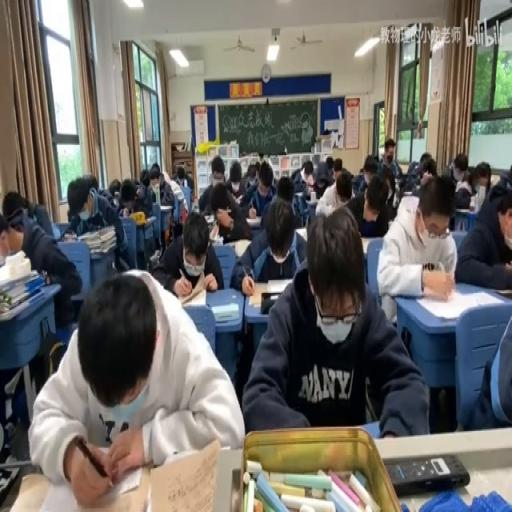calculator: (414, 286, 500, 321), (297, 220, 368, 250), (246, 279, 290, 307), (0, 248, 30, 281), (212, 300, 238, 322), (178, 287, 206, 307), (4, 365, 22, 394), (234, 236, 252, 256), (360, 236, 374, 256), (294, 224, 308, 242), (148, 246, 160, 263), (209, 222, 219, 240), (245, 215, 261, 226), (61, 232, 78, 242), (454, 205, 474, 212), (233, 193, 244, 205), (159, 203, 173, 212), (204, 213, 214, 225), (294, 191, 308, 199), (144, 216, 156, 225), (402, 191, 412, 196)
paper: (28, 266, 242, 506), (244, 204, 426, 436), (456, 166, 510, 428), (0, 192, 82, 331), (152, 208, 226, 297), (64, 174, 127, 278), (345, 169, 392, 238), (451, 157, 476, 209), (149, 164, 175, 210), (397, 156, 423, 195), (379, 135, 402, 178), (224, 158, 247, 200), (2, 190, 30, 224), (117, 176, 139, 218), (32, 202, 55, 239), (395, 192, 418, 219), (491, 168, 512, 196), (275, 173, 294, 202), (473, 160, 490, 190), (334, 173, 350, 202), (362, 155, 378, 183), (258, 161, 274, 189), (210, 188, 227, 213), (82, 171, 98, 192), (210, 156, 224, 180), (246, 159, 259, 181), (108, 178, 121, 199), (332, 156, 343, 180), (290, 166, 302, 185), (174, 165, 185, 185), (324, 155, 334, 176), (184, 171, 194, 192), (419, 152, 432, 168), (302, 165, 312, 185), (139, 168, 149, 185), (150, 174, 158, 184), (158, 176, 163, 188)
person: (384, 452, 468, 495), (0, 462, 19, 506), (492, 284, 512, 298)
